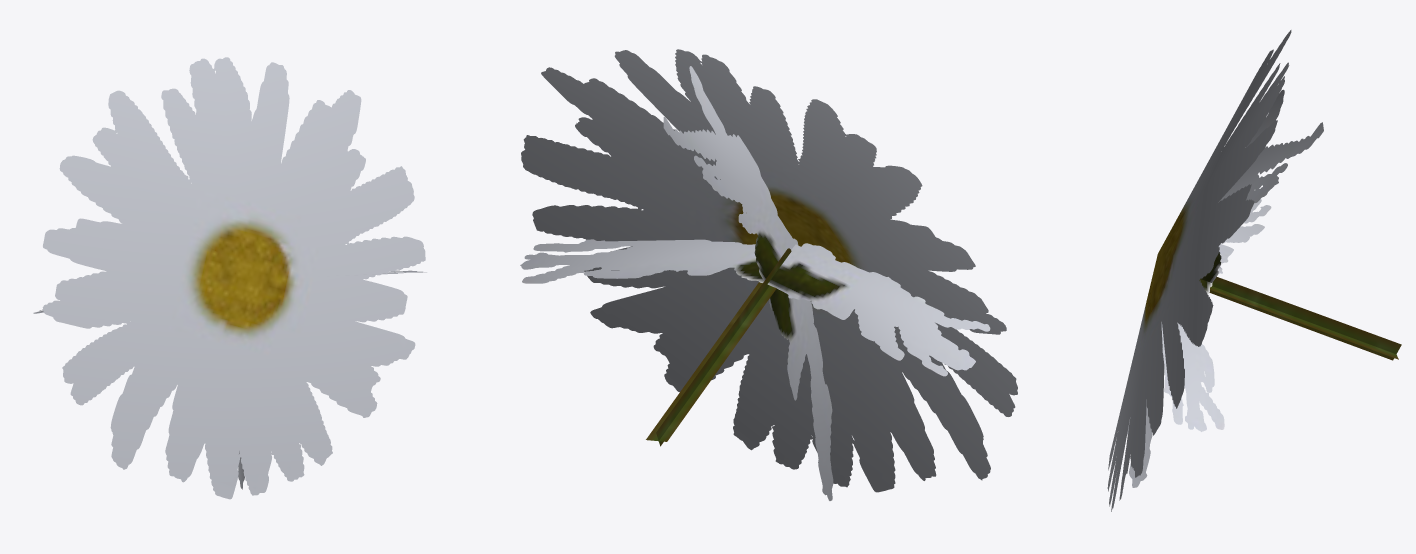
File: daisy.glb
3 renders of one model, left to right at view 1: azimuth 30°, elevation 25°; view 2: azimuth 150°, elevation 25°; view 3: azimuth 270°, elevation 25°, orthographic. The views are drawn at different scales.
Visible parts, largest first — view 1: FlowerHead; view 2: FlowerHead; view 3: FlowerHead.
Boxes of the visible parts, x1=… form: FlowerHead: x1=33, y1=57, x2=426, y2=499; FlowerHead: x1=520, y1=49, x2=1017, y2=500; FlowerHead: x1=1107, y1=30, x2=1401, y2=511.
Bounding box in the file's own units: 0.2857 × 0.2811 × 0.1509.
1 material, 1 textured.
